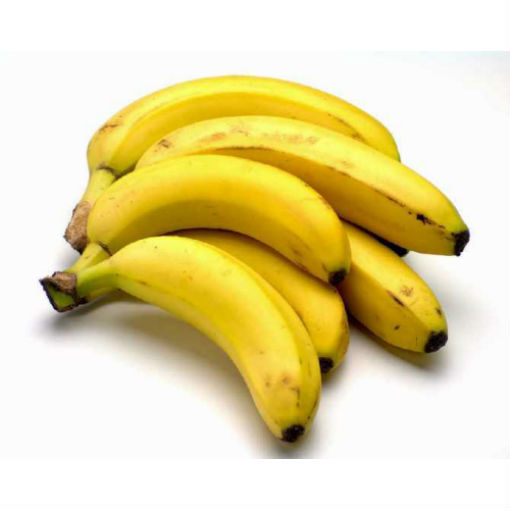banana: (32, 235, 328, 452), (78, 153, 350, 237), (311, 146, 489, 263), (69, 71, 420, 115), (350, 249, 461, 363), (139, 115, 383, 155)
